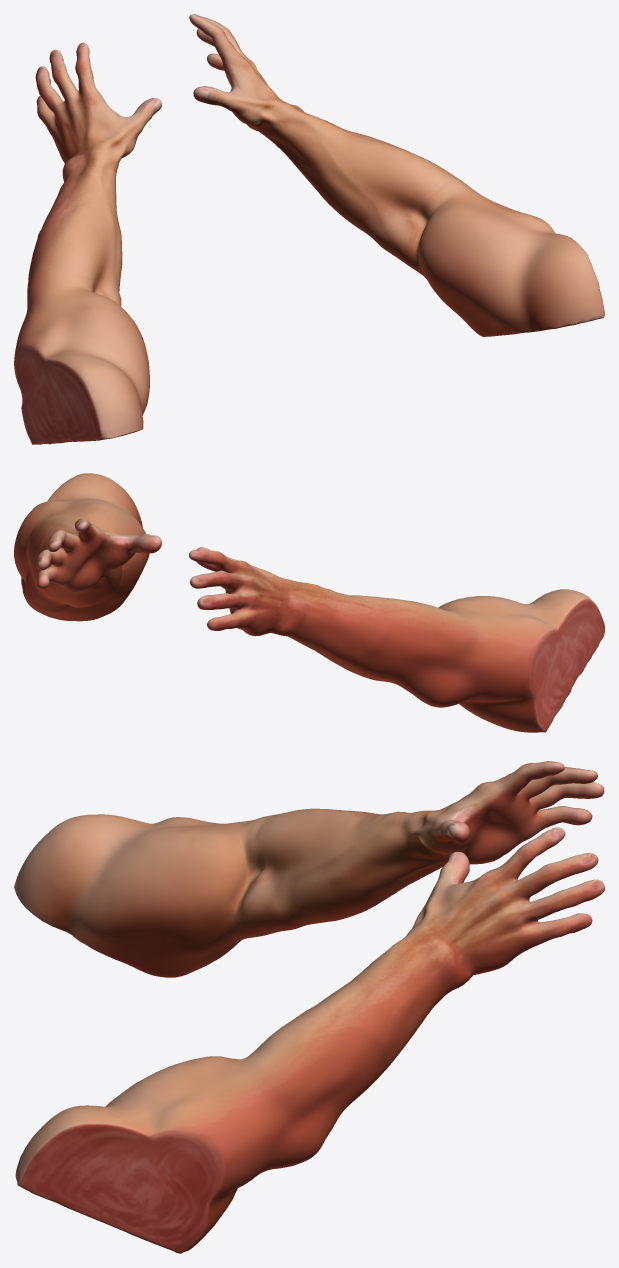
The model's file is attack_closer.glb.
3 renders of one model, top to bottom at view 1: azimuth 30°, elevation 25°; view 2: azimuth 150°, elevation 25°; view 3: azimuth 270°, elevation 25°, orthographic. The views are drawn at different scales.
Parts seen in each view (by area): view 1: tripo_node_fa6f03a1; view 2: tripo_node_fa6f03a1; view 3: tripo_node_fa6f03a1.
Part boxes in pixels (left/top/right/bottom): tripo_node_fa6f03a1: left=14, top=14, right=604, bottom=444; tripo_node_fa6f03a1: left=14, top=473, right=604, bottom=732; tripo_node_fa6f03a1: left=14, top=761, right=604, bottom=1253.
Bounding box in the file's own units: 99.97 × 45.67 × 79.68.
Materials: 1 (1 with a texture image).
